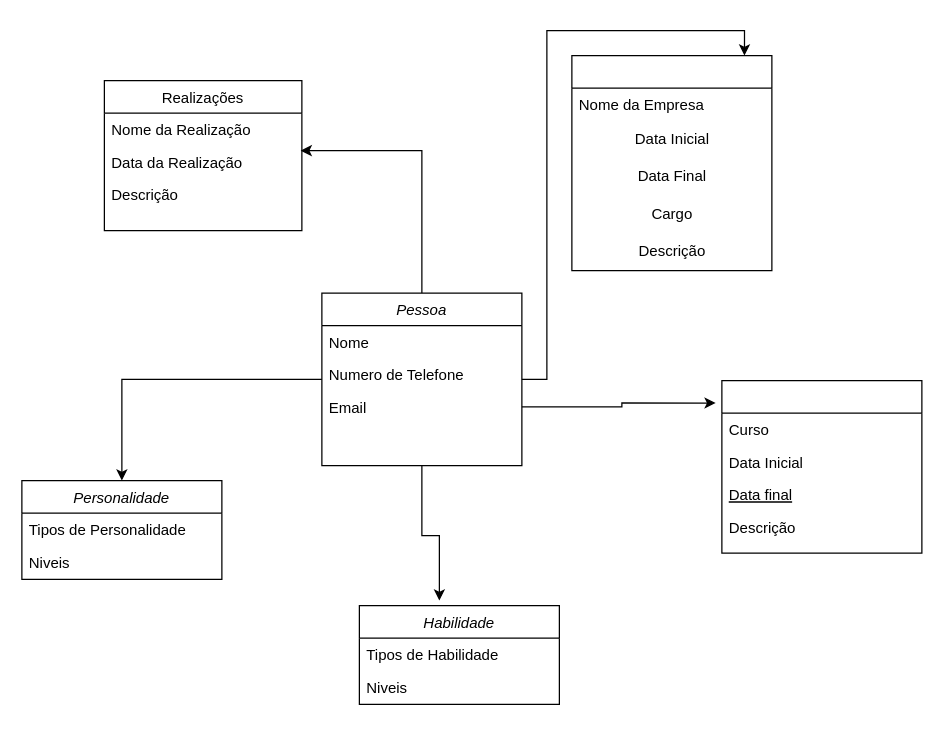
Some shapes in this 944 by 729 pixel diagram are drawn without their labels. Each missing label, with the box of its shape:
Experiência: (571, 54, 772, 271)
Formação: (721, 379, 922, 553)
